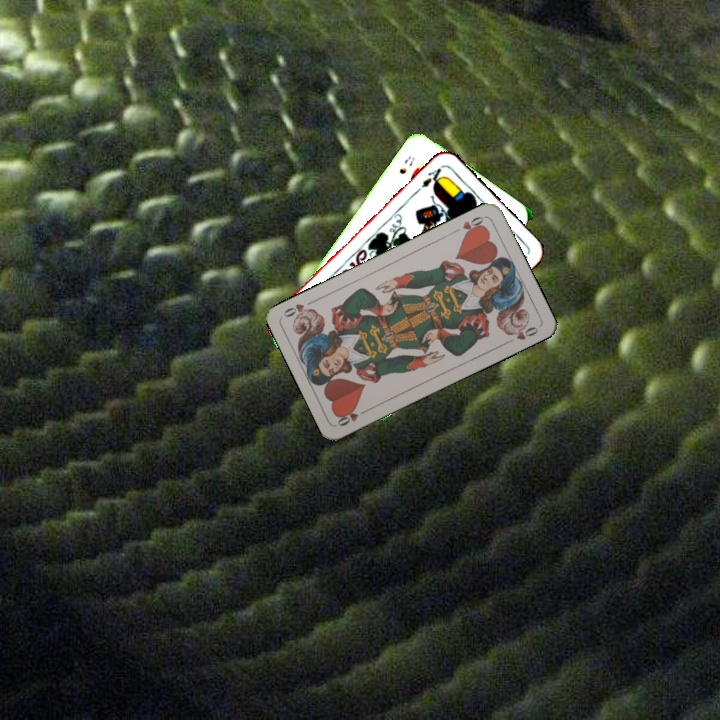EA: (417, 162, 447, 191)
HO: (449, 212, 487, 238), (333, 405, 371, 429)
S8: (395, 152, 418, 177)
